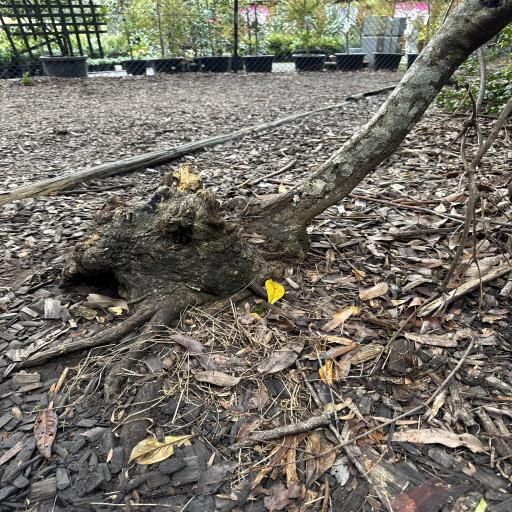tree root: (22, 0, 512, 386)
